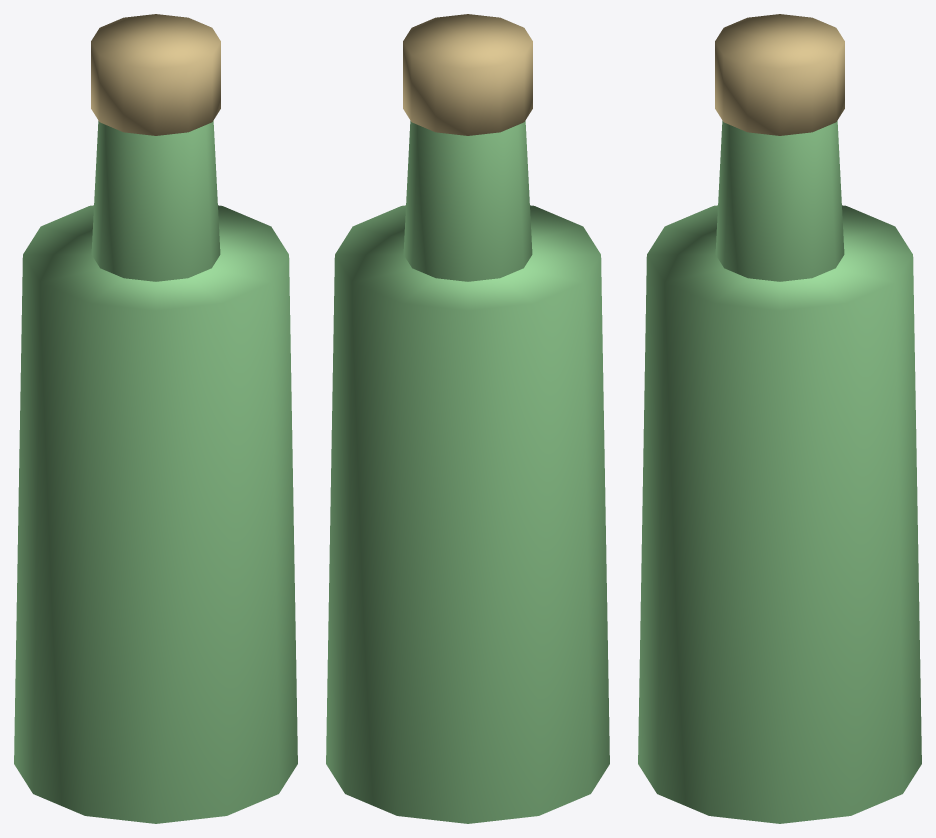
File: trash_bottle.glb
3 renders of one model, left to right at view 1: azimuth 30°, elevation 25°; view 2: azimuth 150°, elevation 25°; view 3: azimuth 270°, elevation 25°, orthographic.
Bounding box in the file's own units: 0.096 × 0.2695 × 0.096.
